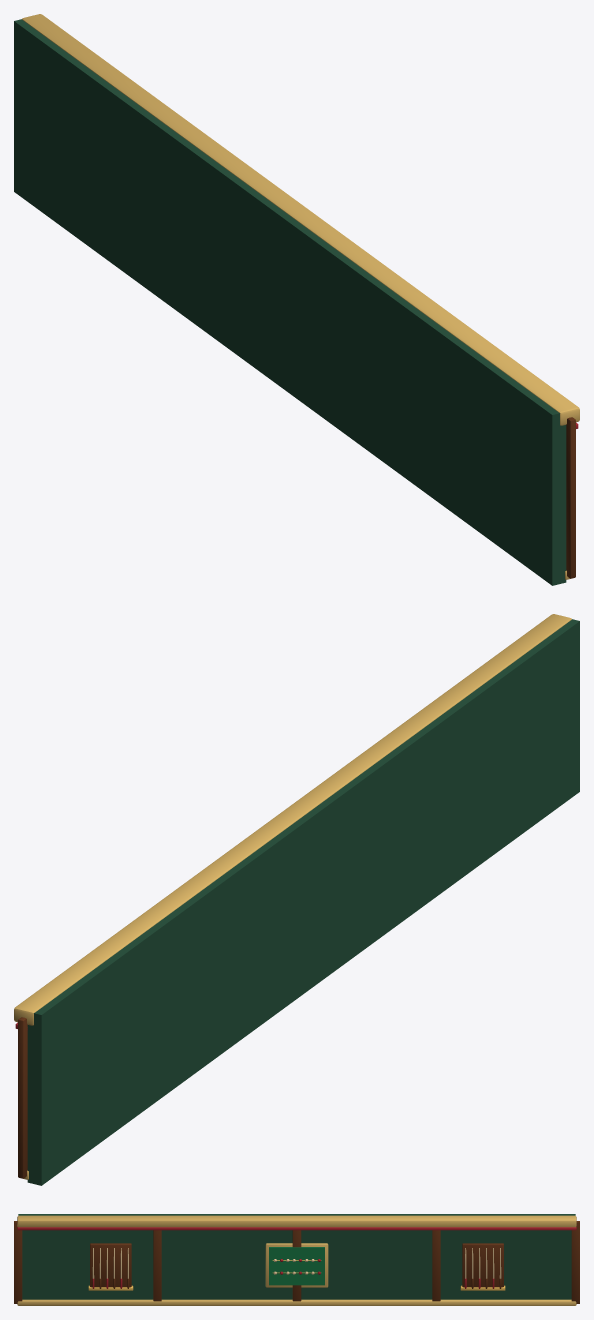
The model's file is WallClub.fbx.
3 views of the same model, one above another, from view 1: azimuth 30°, elevation 25°; view 2: azimuth 150°, elevation 25°; view 3: azimuth 270°, elevation 25° (orthographic). The views are drawn at different scales.
Visible parts, largest first — view 1: WallClub; view 2: WallClub; view 3: WallClub.
Boxes of the visible parts, x1=… form: WallClub: x1=14, y1=14, x2=579, y2=585; WallClub: x1=14, y1=614, x2=579, y2=1185; WallClub: x1=14, y1=1214, x2=579, y2=1305.
Size of the model in its own units: 240 by 1410 by 8120.
